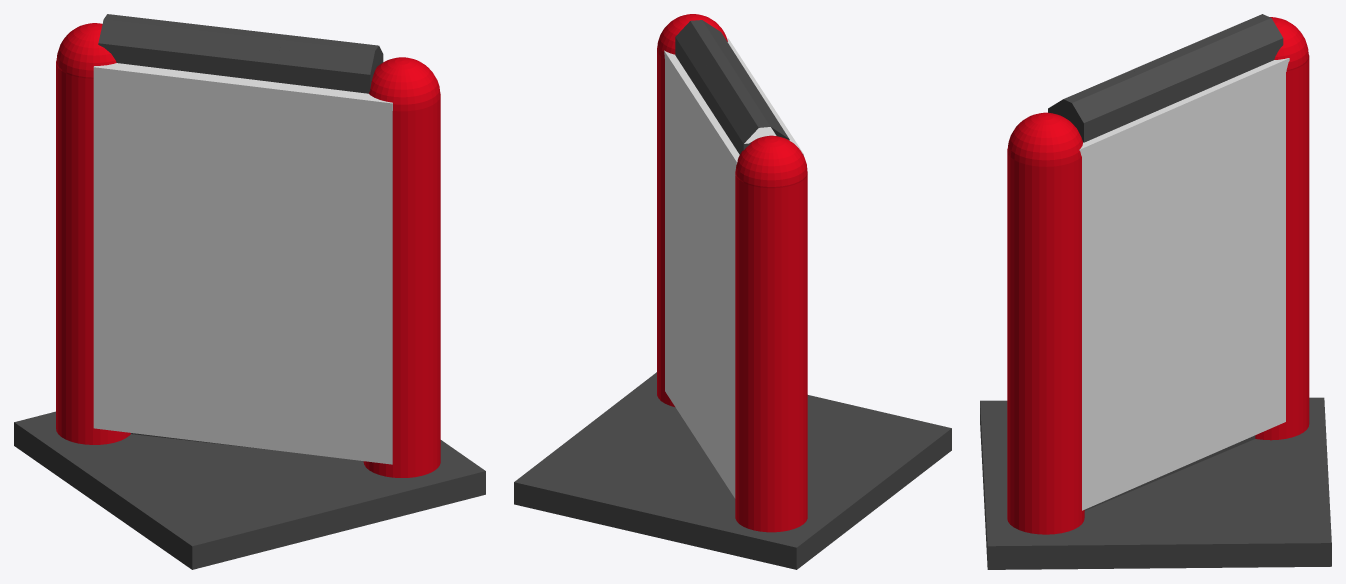
File: mirror.glb
The picture shows the model from 3 angles, left to right: view 1: azimuth 30°, elevation 25°; view 2: azimuth 150°, elevation 25°; view 3: azimuth 270°, elevation 25°; orthographic projection. The views are drawn at different scales.
Visible parts, largest first — view 1: Cube.001, shelder, Cylinder.002, Cylinder.001, Cube.008_reflect, Sphere.004, Sphere; view 2: shelder, Cube.001, Cylinder.001, Cube.008_reflect, Sphere, Cylinder.002, Sphere.004; view 3: Cube.001, shelder, Cylinder.002, Cube.008_reflect, Cylinder.001, Sphere.004, Sphere, Cube.008_reflect.001.
Part boxes in pixels (left/top/right/bottom): Cube.001: left=93, top=63, right=392, bottom=464; shelder: left=14, top=411, right=485, bottom=569; Cylinder.002: left=363, top=94, right=440, bottom=477; Cylinder.001: left=56, top=60, right=130, bottom=444; Cube.008_reflect: left=98, top=14, right=383, bottom=93; Sphere.004: left=369, top=57, right=440, bottom=111; Sphere: left=56, top=23, right=116, bottom=78; shelder: left=514, top=372, right=951, bottom=569; Cube.001: left=664, top=38, right=803, bottom=498; Cylinder.001: left=735, top=171, right=807, bottom=532; Cube.008_reflect: left=675, top=20, right=789, bottom=154; Sphere: left=735, top=135, right=807, bottom=188; Cylinder.002: left=657, top=48, right=674, bottom=406; Sphere.004: left=657, top=14, right=727, bottom=58; Cube.001: left=1079, top=58, right=1289, bottom=510; shelder: left=980, top=397, right=1331, bottom=569; Cylinder.002: left=1007, top=149, right=1084, bottom=534; Cube.008_reflect: left=1048, top=14, right=1283, bottom=142; Cylinder.001: left=1255, top=54, right=1309, bottom=440; Sphere.004: left=1007, top=112, right=1082, bottom=166; Sphere: left=1270, top=17, right=1308, bottom=71; Cube.008_reflect.001: left=1084, top=435, right=1255, bottom=510.
Bounding box in the file's own units: 3.46 × 4.74 × 3.46.
